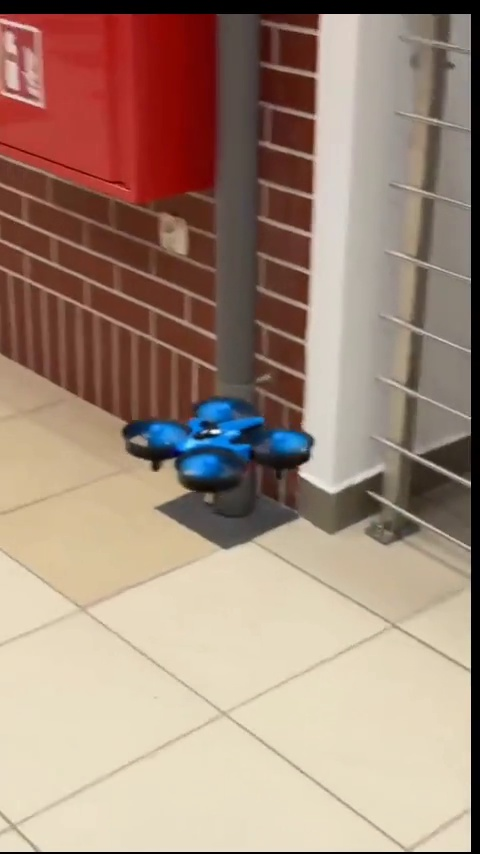drone: (121, 397, 319, 506)
